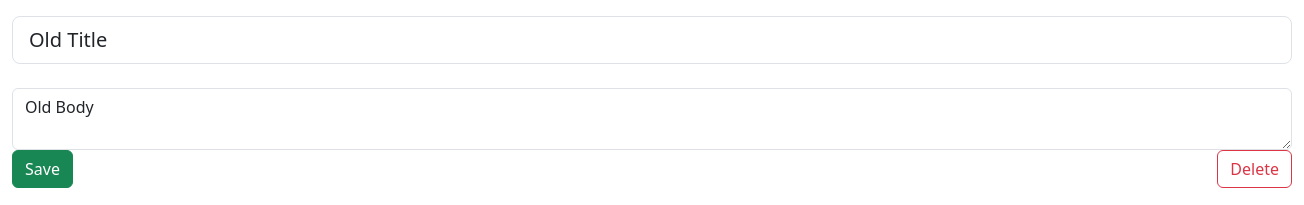
Scenario: EditPostPage — Save button state › is disabled when the title is cleared
Clear the field showing "Old Title" at (652, 40), box [12,16,1292,64]
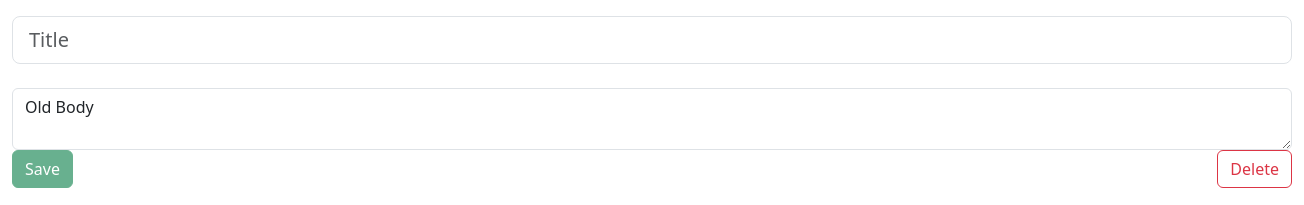
Now the button "Save" is disabled, box [12,150,73,188]
